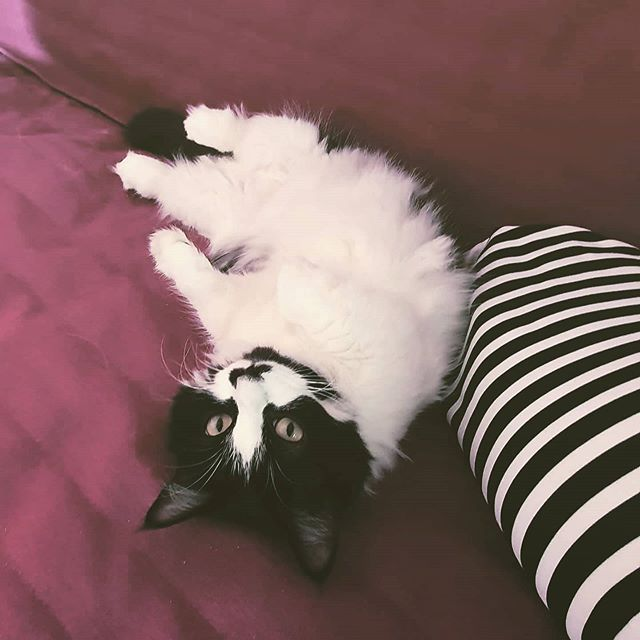cat: (137, 349, 375, 584)
